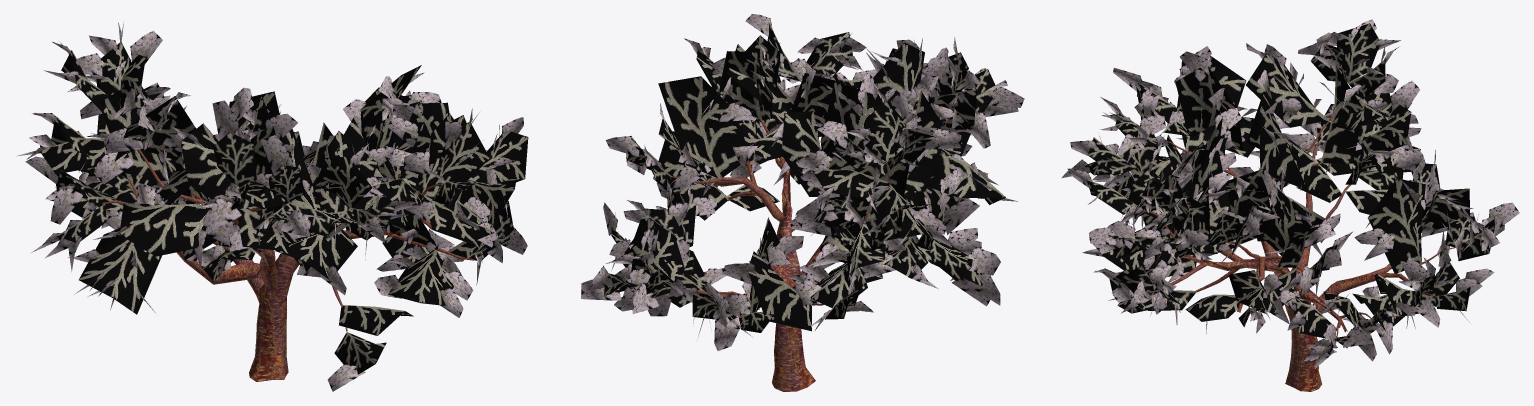
The model's file is pal_b00_tree_cherry_M_C_0c2ae4.glb.
3 renders of one model, left to right at view 1: azimuth 30°, elevation 25°; view 2: azimuth 150°, elevation 25°; view 3: azimuth 270°, elevation 25°, orthographic. The views are drawn at different scales.
Bounding box in the file's own units: 9.64 × 7.73 × 10.3.
2 materials, 2 textured.
